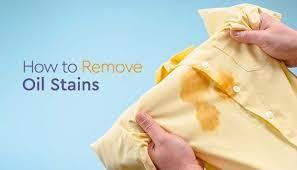mustard: (176, 69, 222, 129), (212, 74, 235, 99)
